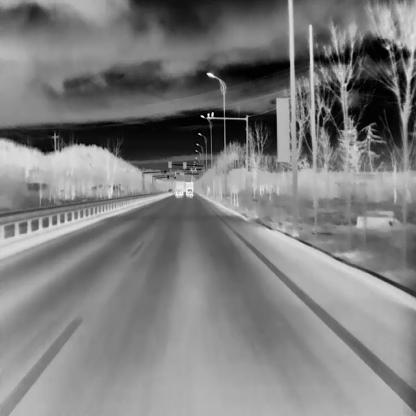car: (174, 188, 182, 196), (186, 188, 192, 196)
truck: (176, 182, 183, 195), (186, 181, 192, 194)
